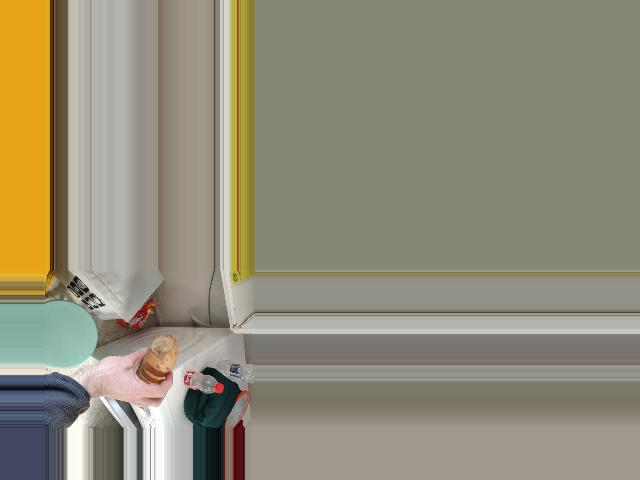sweet_potato: (136, 343, 179, 386)
